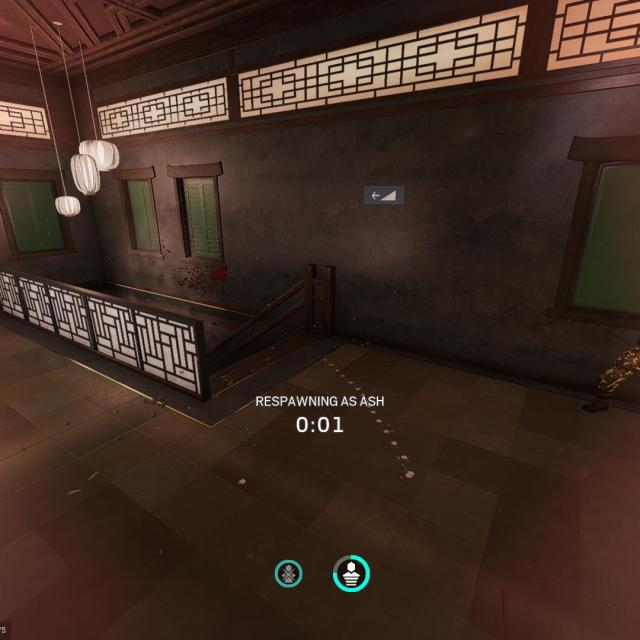Character: (579, 339, 640, 417)
